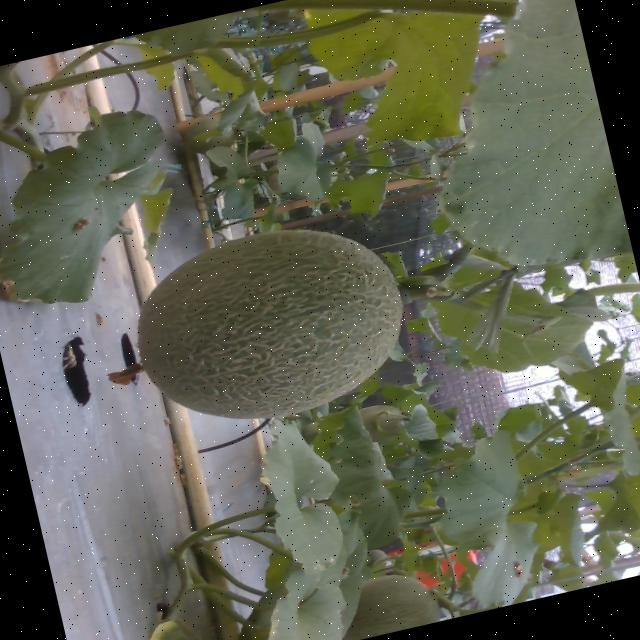melon: (137, 231, 401, 418)
